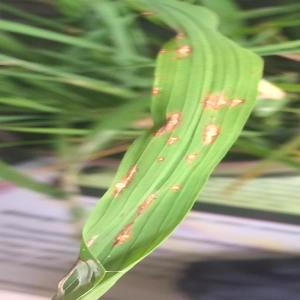1 RiceBlast: (107, 152, 146, 195), (144, 104, 189, 141), (97, 217, 143, 252), (120, 192, 169, 222), (199, 88, 247, 111), (194, 118, 223, 148), (168, 22, 196, 48), (171, 35, 196, 62), (179, 144, 203, 171), (151, 41, 175, 64), (142, 79, 166, 101), (149, 150, 171, 170), (163, 133, 186, 152), (162, 178, 184, 196), (141, 4, 161, 21)
